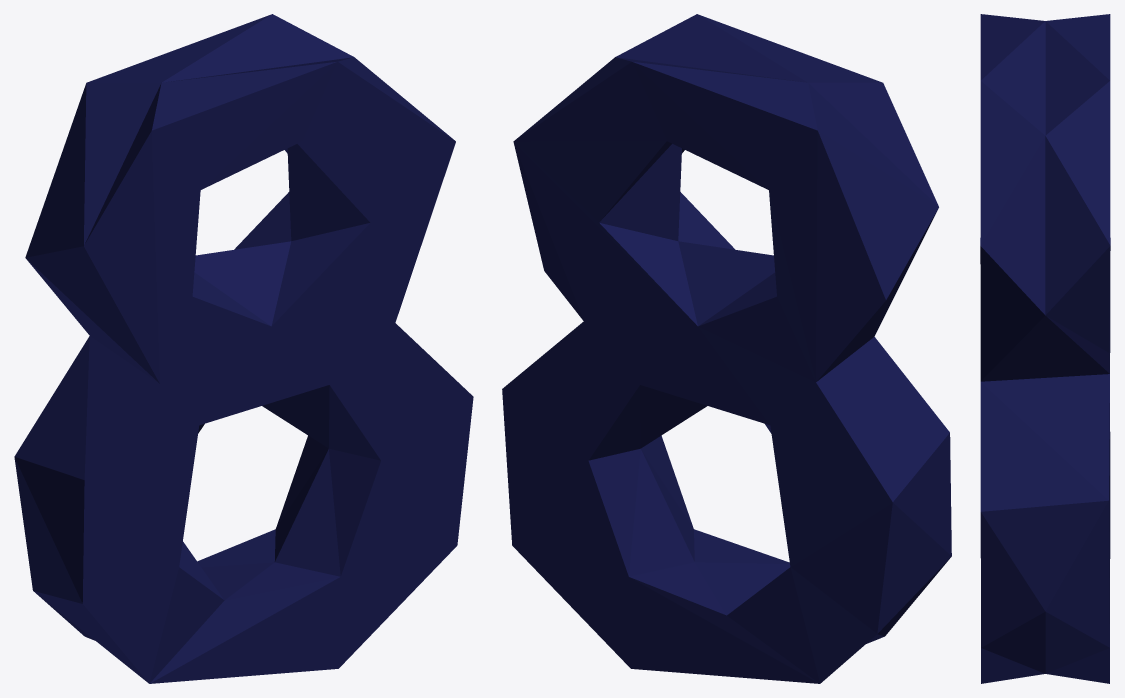
3 views of the same model, side by side, from view 1: azimuth 30°, elevation 25°; view 2: azimuth 150°, elevation 25°; view 3: azimuth 270°, elevation 25° (orthographic).
Parts seen in each view (by area): view 1: Eight; view 2: Eight; view 3: Eight.
Boxes of the visible parts, <box> form: Eight: <box>14,14,473,683</box>; Eight: <box>502,14,951,683</box>; Eight: <box>980,14,1110,683</box>.
Bounding box in the file's own units: 0.3445 × 0.5007 × 0.0979.
